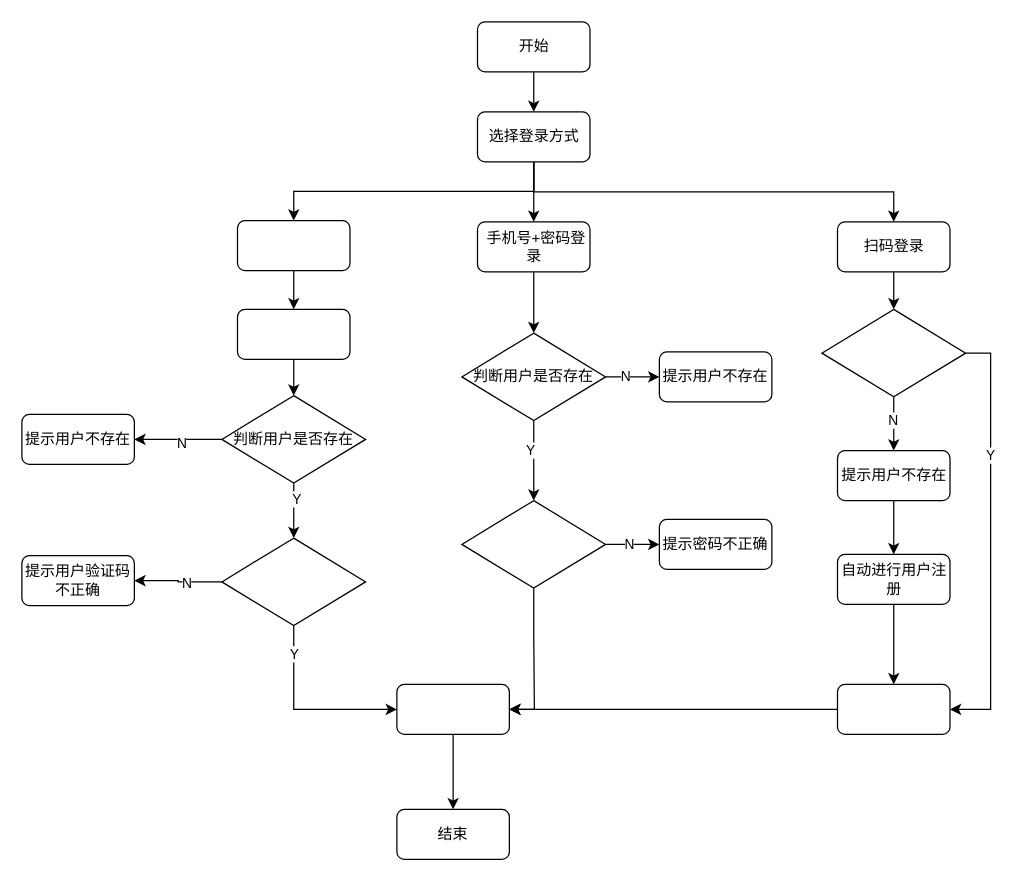
Some shapes in this 1023 by 881 pixel diagram are drawn without their labels. The shapes that lost their labels are listed below. From the top down, each one's centre as x and y in pixels, then its label:
the point at 293,245: 手机号+验证码登录
the point at 293,333: 发送验证码
the point at 893,352: 判断该用户 是否注册
the point at 533,543: 判断密码是 否正确
the point at 293,581: 判断验证码是 否正确
the point at 452,708: 登陆成功，跳转首页
the point at 893,708: 进行第三方登录
